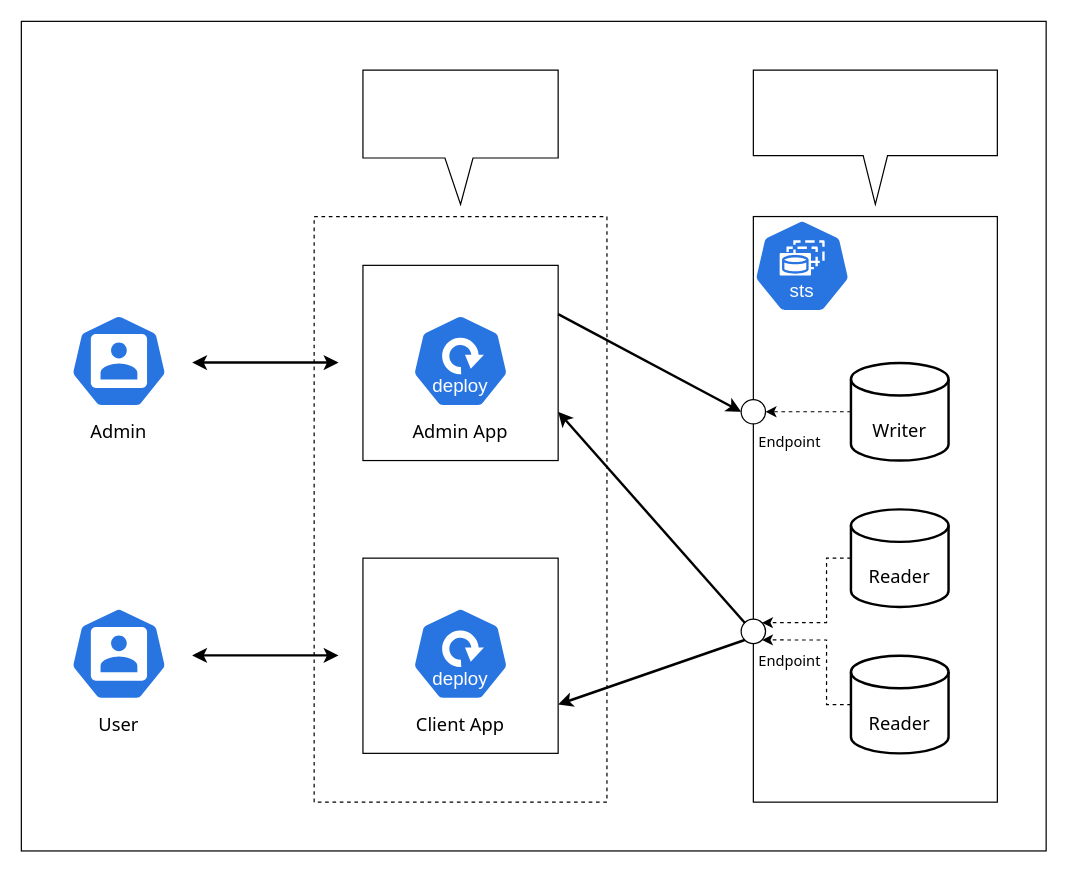
This 1068x872 diagram has some shape labels left out. Each missing label, with the centre of its shape:
"Firewall: Inbound: Anywhere Outbound: Database" goes at (x=460, y=136).
"Firewall: Inbound: App Outbound: None" goes at (x=874, y=136).
